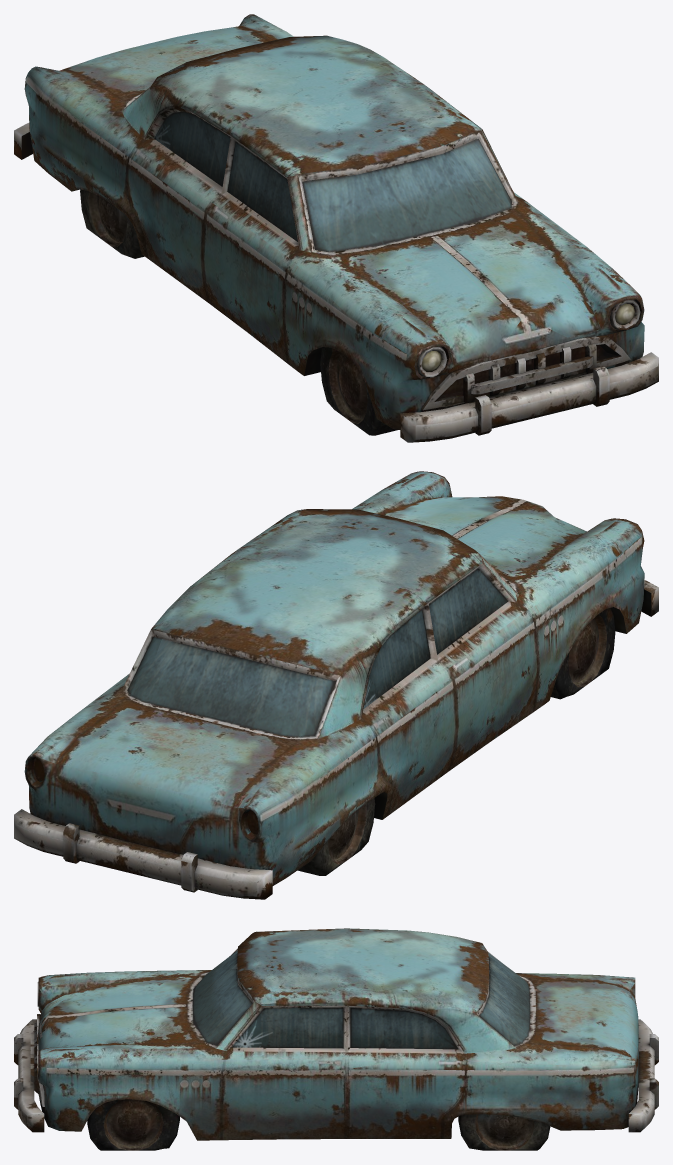
File: car_wreck.glb
3 renders of one model, top to bottom at view 1: azimuth 30°, elevation 25°; view 2: azimuth 150°, elevation 25°; view 3: azimuth 270°, elevation 25°, orthographic. The views are drawn at different scales.
Parts seen in each view (by area): view 1: car_wreck; view 2: car_wreck; view 3: car_wreck.
Part boxes in pixels (x1,y1,x2,y2): car_wreck: (14,14,658,442); car_wreck: (14,471,658,899); car_wreck: (14,928,658,1150).
Size of the model in its own units: 1.76 by 1.25 by 4.9.
2 materials, 2 textured.
